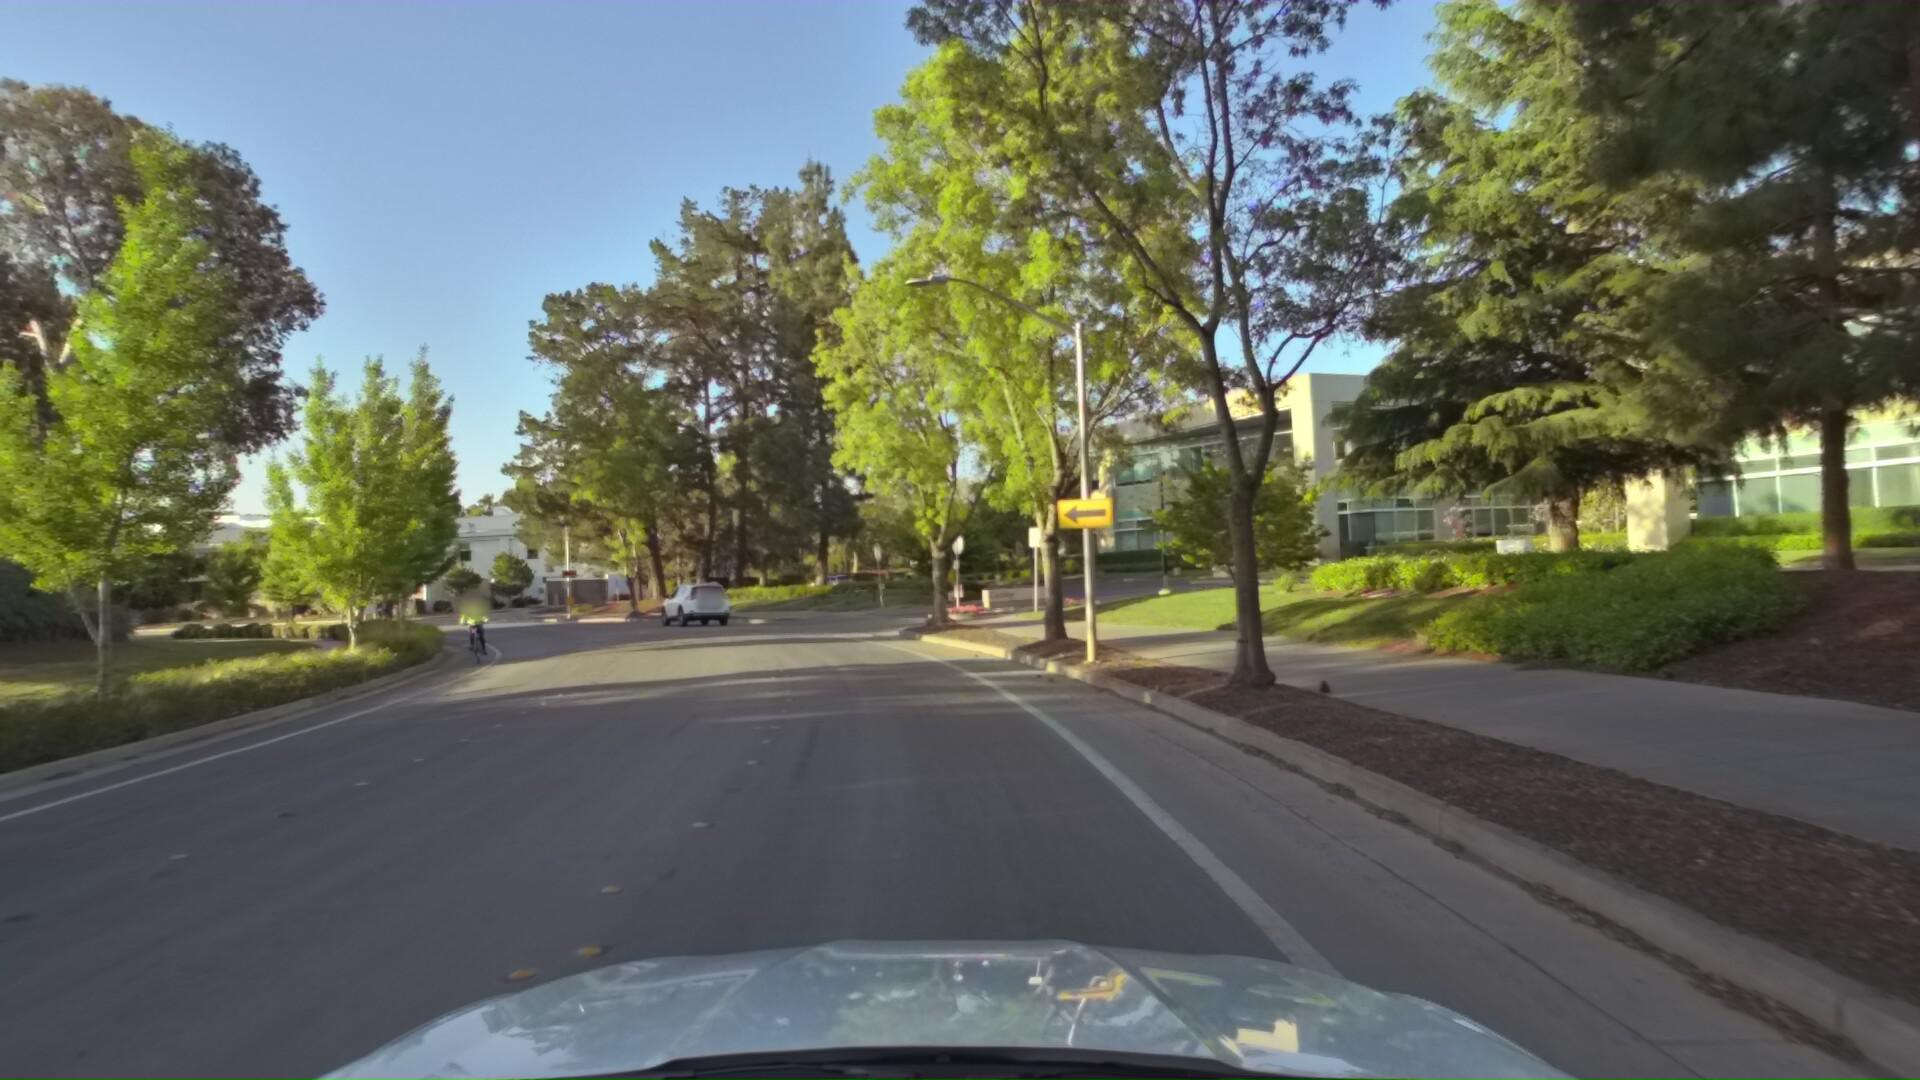bicycle: (447, 589, 489, 669), (371, 596, 400, 638)
car: (647, 579, 731, 632)
